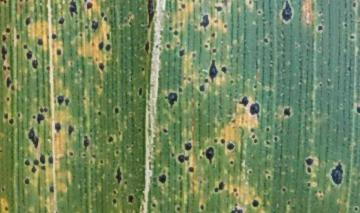tarspot: (328, 159, 345, 188), (278, 1, 296, 26), (26, 126, 43, 151), (146, 1, 155, 29), (208, 60, 218, 85), (164, 91, 177, 109), (204, 145, 215, 164), (68, 1, 79, 19), (249, 102, 262, 117), (113, 167, 123, 183), (198, 15, 210, 28), (176, 153, 190, 164), (82, 134, 91, 151), (228, 203, 243, 213), (35, 113, 46, 125), (157, 173, 168, 185), (238, 95, 249, 107), (5, 76, 14, 90), (55, 94, 65, 106), (1, 44, 8, 61), (97, 61, 106, 74), (54, 121, 63, 134), (66, 124, 75, 137), (303, 157, 316, 166), (212, 5, 224, 14), (31, 58, 39, 71), (47, 154, 55, 167), (22, 176, 32, 186), (282, 107, 292, 117), (251, 199, 262, 208), (315, 23, 326, 32), (225, 142, 236, 151), (303, 167, 317, 174), (92, 19, 99, 32), (144, 40, 150, 55), (63, 97, 72, 107), (183, 142, 193, 151), (217, 181, 226, 191), (24, 16, 32, 27), (186, 166, 195, 175), (197, 84, 206, 93), (25, 50, 33, 60), (97, 41, 105, 51), (38, 154, 46, 164), (137, 87, 144, 98), (85, 2, 94, 10), (6, 118, 15, 126), (348, 32, 356, 41), (36, 38, 44, 46), (32, 158, 40, 166), (107, 135, 115, 143), (55, 48, 62, 57), (2, 111, 9, 120), (48, 185, 55, 194), (38, 165, 47, 172), (127, 194, 134, 203), (220, 65, 227, 74), (58, 17, 65, 25), (105, 44, 112, 52), (113, 107, 120, 115), (23, 159, 31, 166), (30, 166, 37, 174), (90, 153, 98, 160), (178, 49, 185, 57), (356, 103, 360, 117), (252, 83, 260, 90), (305, 181, 313, 188), (1, 34, 7, 43), (200, 148, 205, 158), (10, 85, 17, 92), (16, 112, 23, 119), (180, 3, 187, 10), (111, 198, 118, 205), (162, 127, 169, 134), (150, 202, 157, 209), (210, 32, 217, 39), (222, 23, 229, 30), (263, 37, 270, 44), (351, 1, 358, 8), (15, 33, 21, 41), (220, 137, 226, 145), (253, 137, 259, 145), (263, 140, 271, 146), (106, 32, 111, 41), (4, 27, 10, 34), (22, 43, 28, 50), (51, 33, 57, 40), (84, 24, 91, 30), (43, 107, 49, 114), (96, 110, 102, 117), (111, 189, 118, 195), (68, 151, 74, 158), (114, 149, 120, 156), (178, 86, 184, 93), (199, 204, 205, 211), (169, 152, 176, 158), (232, 187, 239, 193), (234, 192, 240, 199), (211, 48, 217, 55), (213, 18, 219, 25), (264, 127, 271, 133), (272, 136, 279, 142), (246, 1, 254, 6), (38, 107, 44, 113), (166, 43, 172, 49), (177, 175, 183, 181), (212, 187, 218, 193), (203, 43, 209, 49), (256, 9, 262, 15), (249, 127, 255, 133), (266, 174, 272, 180), (229, 159, 234, 166), (353, 205, 358, 212), (46, 65, 51, 71), (31, 114, 36, 120), (174, 30, 179, 36), (167, 26, 173, 31), (98, 159, 104, 164), (123, 180, 128, 186), (176, 206, 181, 212), (191, 52, 196, 58), (343, 22, 348, 28), (213, 138, 218, 144), (250, 133, 256, 138), (2, 65, 6, 72), (7, 65, 11, 72), (102, 17, 109, 21), (5, 97, 10, 102), (100, 12, 105, 17), (140, 67, 145, 72), (4, 206, 9, 211), (137, 128, 142, 133), (204, 78, 209, 83), (247, 169, 252, 174), (264, 169, 269, 174), (78, 33, 84, 37), (187, 77, 191, 83), (1, 1, 8, 4), (1, 187, 5, 192), (179, 22, 183, 27), (82, 153, 87, 157), (282, 187, 286, 192), (287, 200, 291, 205), (347, 67, 352, 71), (75, 20, 78, 23), (18, 1, 24, 2), (83, 1, 87, 2)
